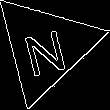N_N: (20, 18, 72, 76)
